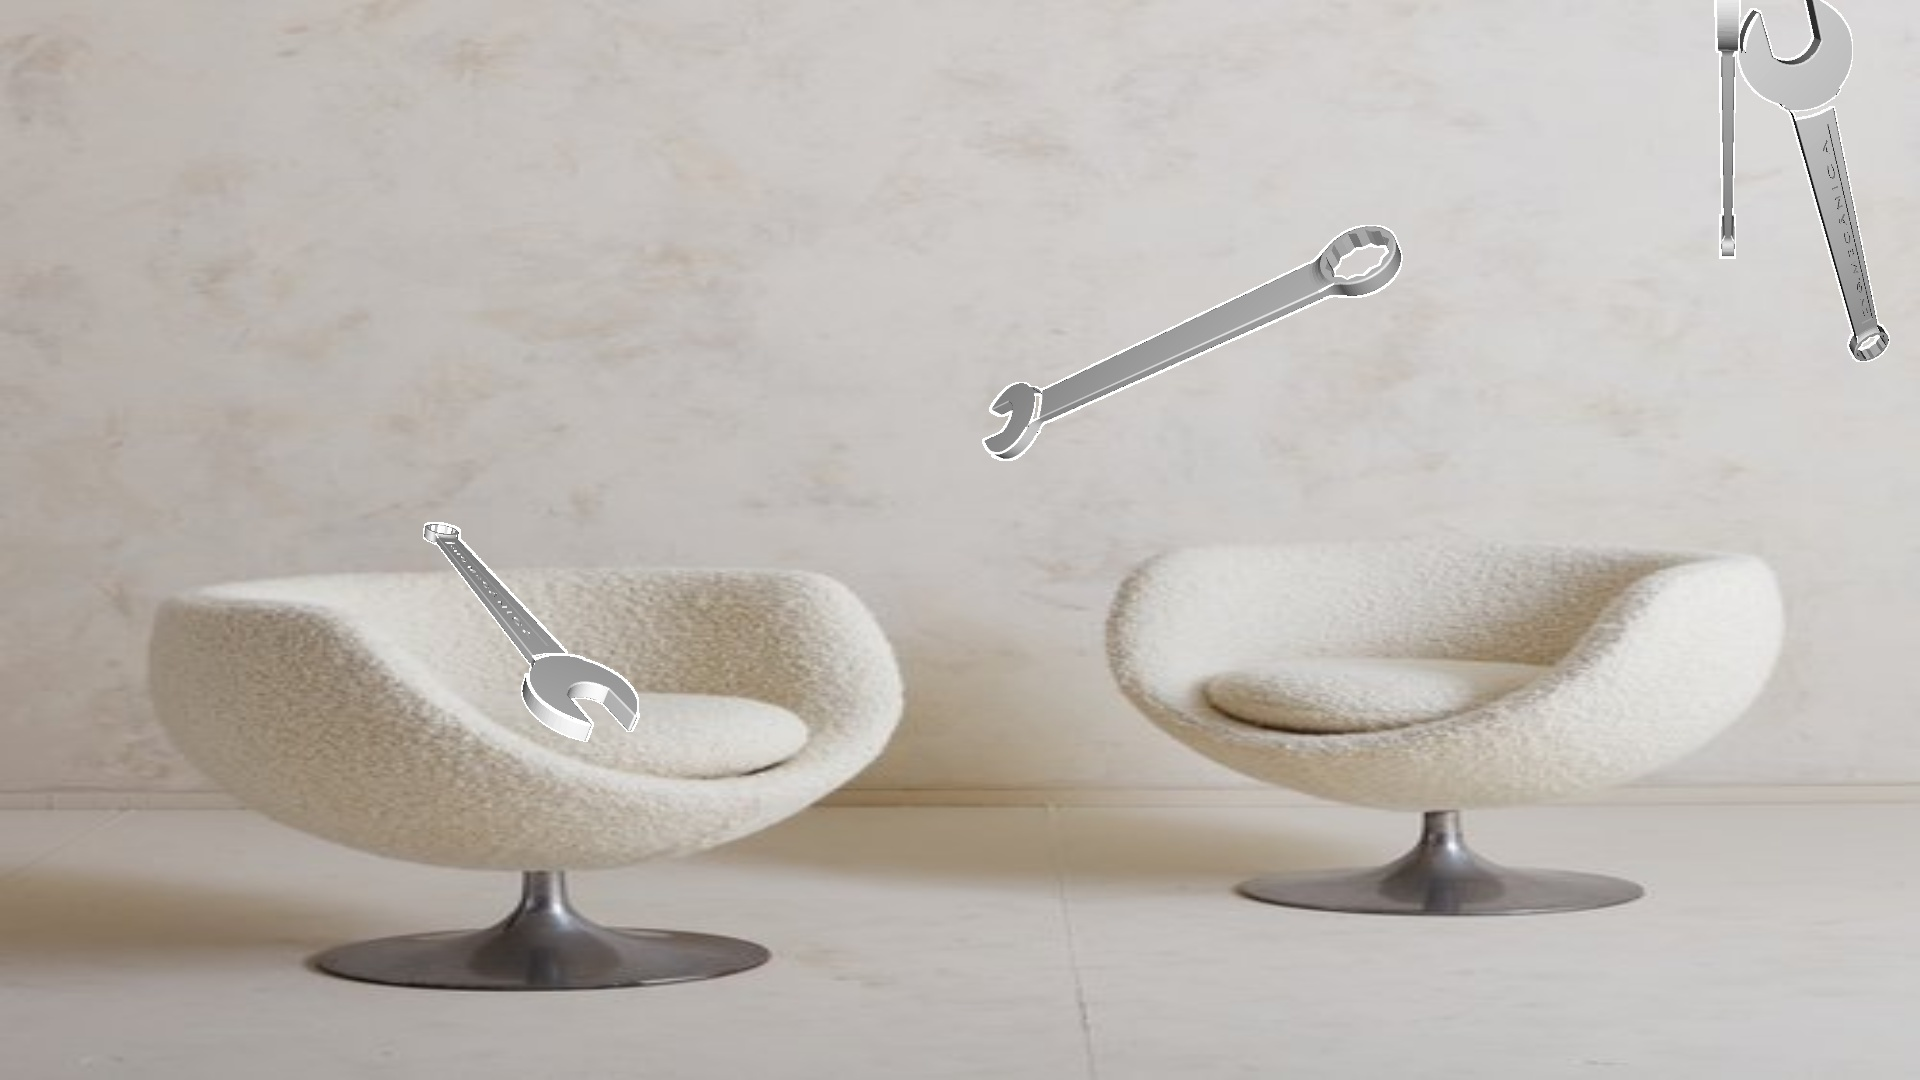Mixed Key: (982, 225, 1402, 460), (1735, 0, 1888, 361), (423, 522, 640, 741), (1714, 0, 1741, 258)
